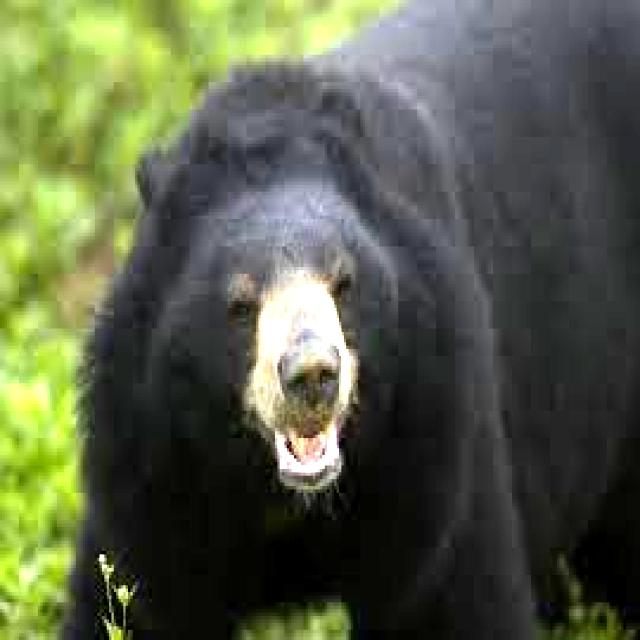bear: (86, 45, 599, 600)
